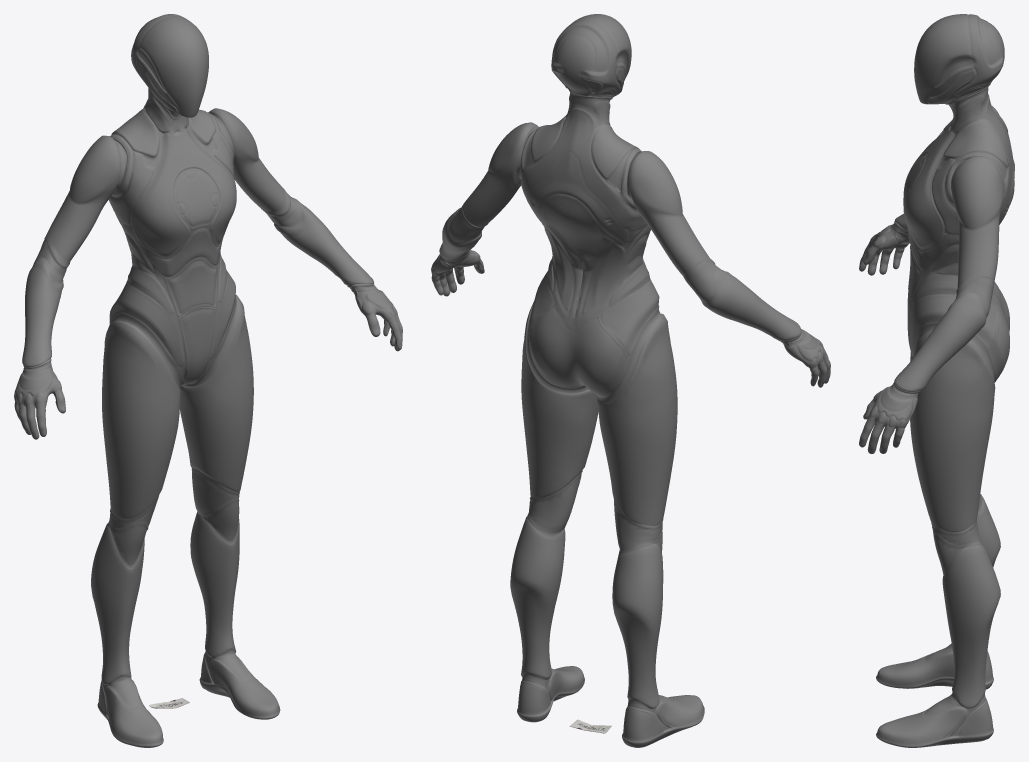
File: strong.glb
The picture shows the model from 3 angles, left to right: view 1: azimuth 30°, elevation 25°; view 2: azimuth 150°, elevation 25°; view 3: azimuth 270°, elevation 25°; orthographic projection. The views are drawn at different scales.
Visible parts, largest first — view 1: SKM_Quinn.001; view 2: SKM_Quinn.001; view 3: SKM_Quinn.001.
Boxes of the visible parts, left/top/right/bottom form: SKM_Quinn.001: left=14, top=14, right=402, bottom=747; SKM_Quinn.001: left=431, top=14, right=830, bottom=747; SKM_Quinn.001: left=859, top=14, right=1014, bottom=747.
Bounding box in the file's own units: 1.04 × 1.81 × 0.3659.
Materials: 3 (1 with a texture image).
